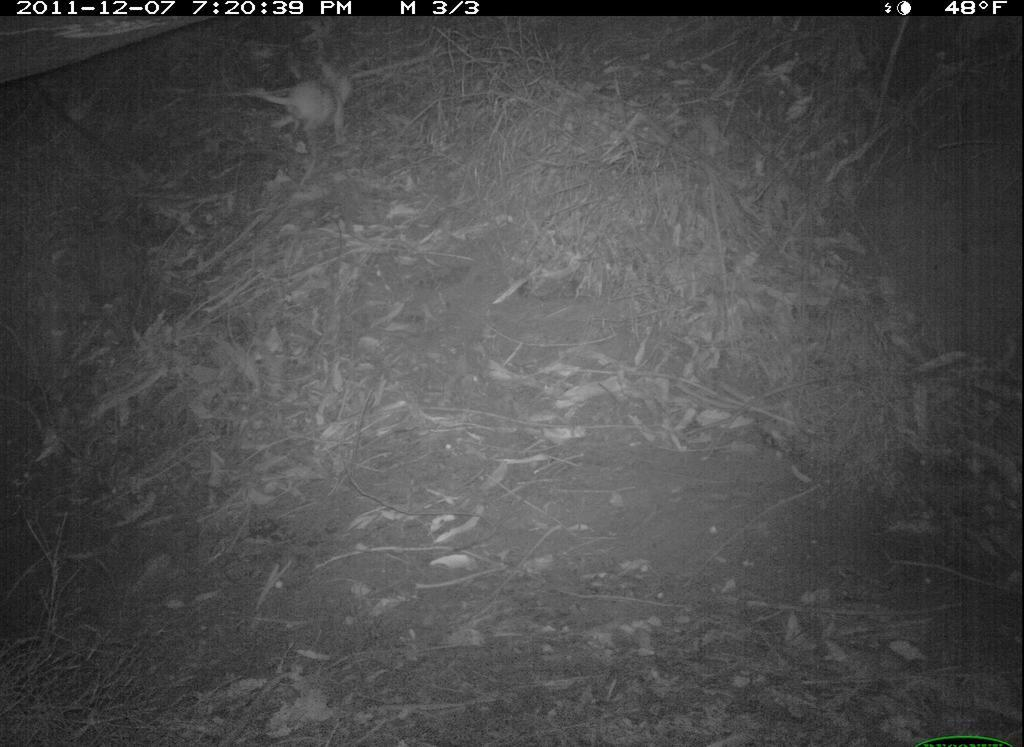dog: (239, 48, 379, 168)
